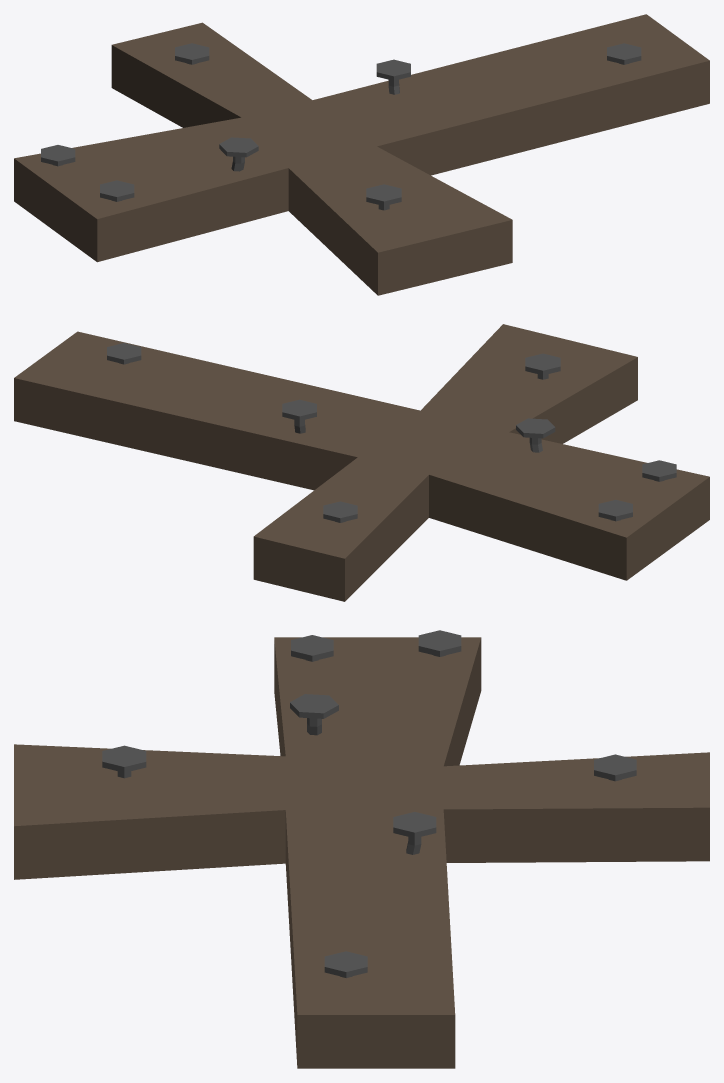
The model's file is CrossIngridient.fbx.
3 renders of one model, top to bottom at view 1: azimuth 30°, elevation 25°; view 2: azimuth 150°, elevation 25°; view 3: azimuth 270°, elevation 25°, orthographic. The views are drawn at different scales.
Visible parts, largest first — view 1: Cross; view 2: Cross; view 3: Cross.
Part boxes in pixels (x1,y1,x2,y2): Cross: [14, 14, 709, 295]; Cross: [14, 324, 709, 601]; Cross: [14, 630, 709, 1068].
Bounding box in the file's own units: 28.26 × 2.9 × 22.
